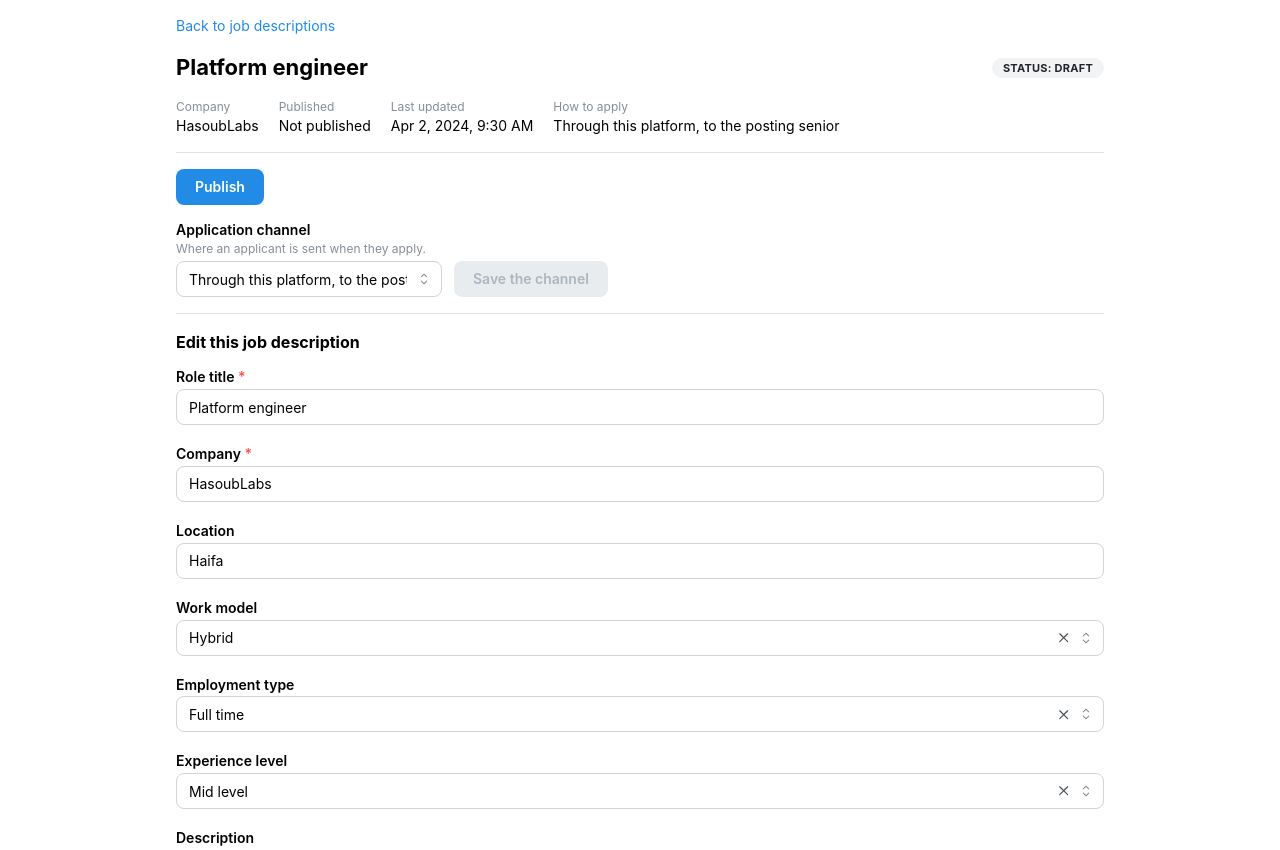
a refused lifecycle transition (Req 13 AC18) › neither names a transition nor refetches for any other failure
This screenshot has width=1280, height=850.
Click the button with test id "job-publish" at point(220, 187), box [176,169,264,205]
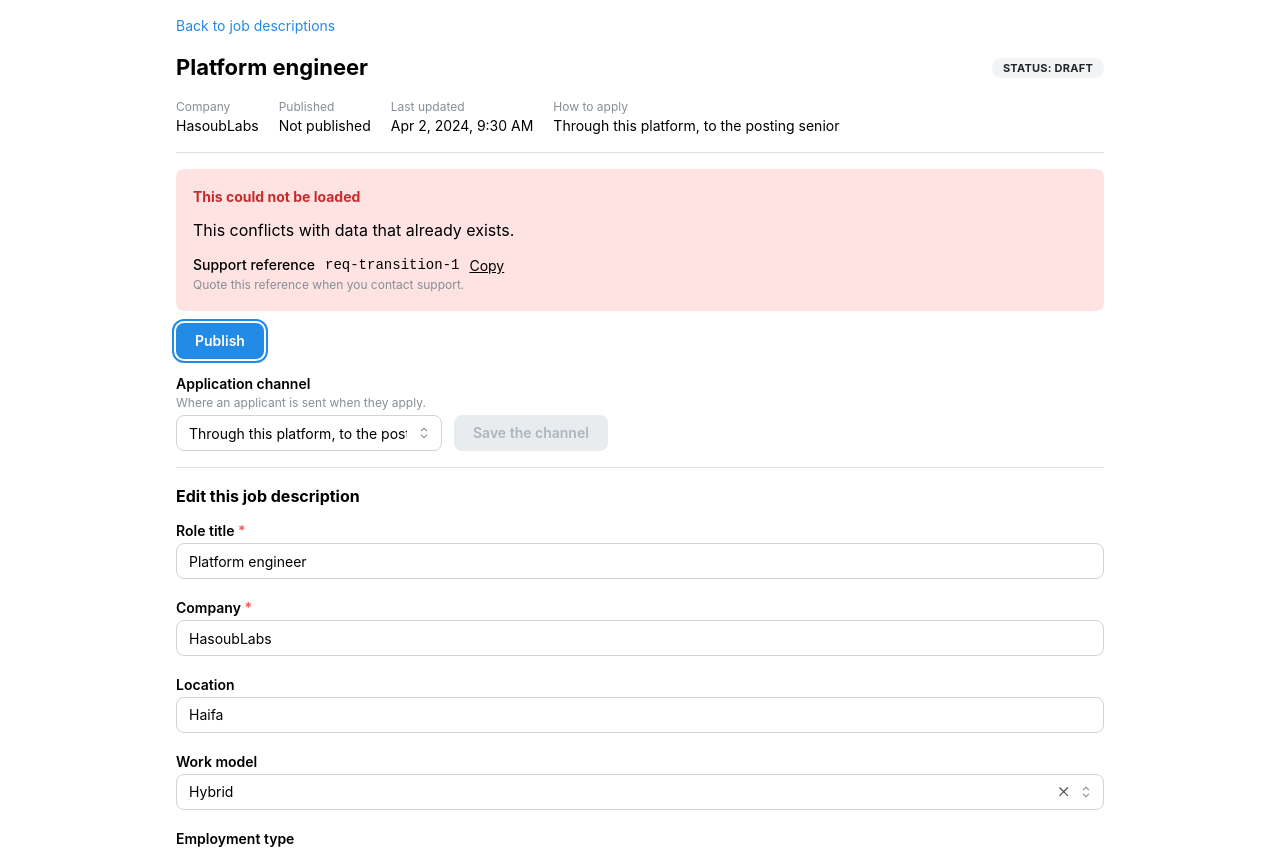
Expected: the message with test id "error-state" is shown, [176,169,1104,311]
